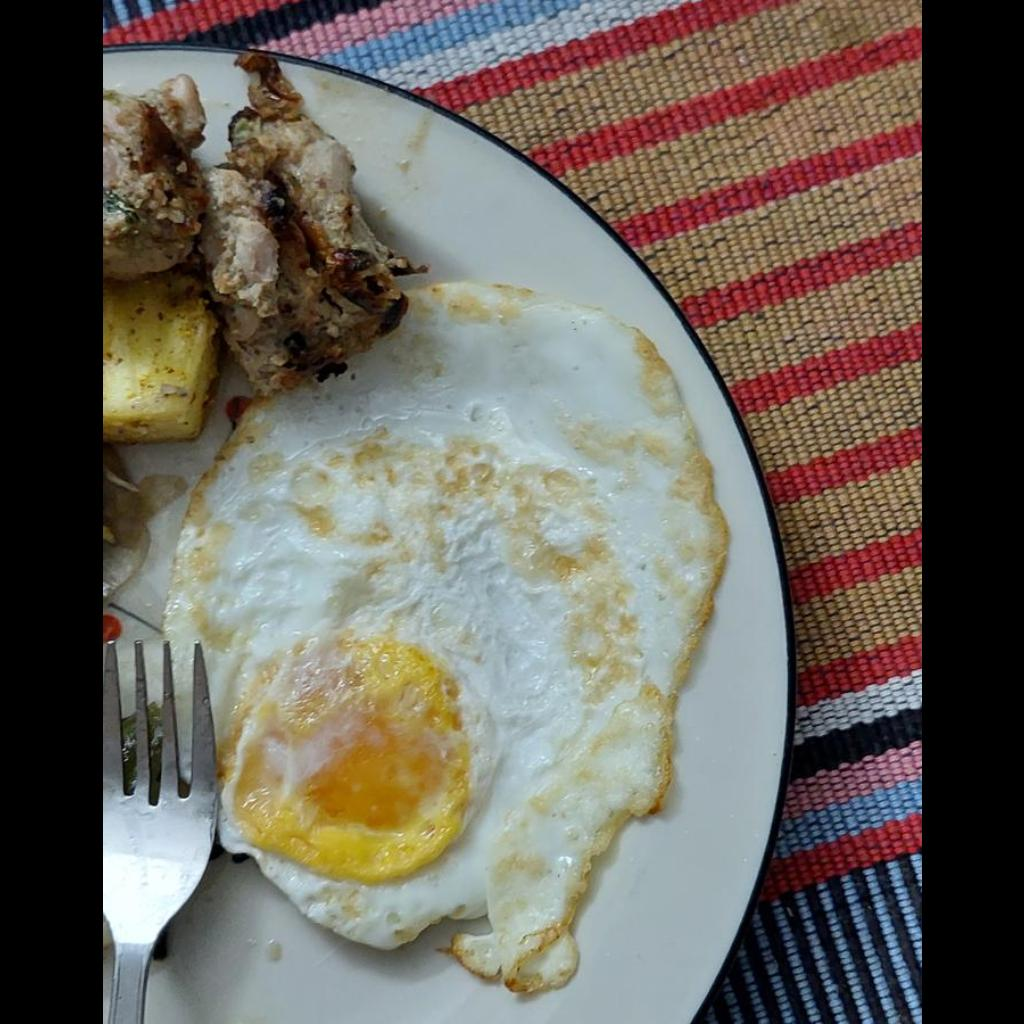chicken: (103, 58, 427, 393)
egg-poached: (168, 280, 723, 999)
potato: (102, 273, 217, 441)
